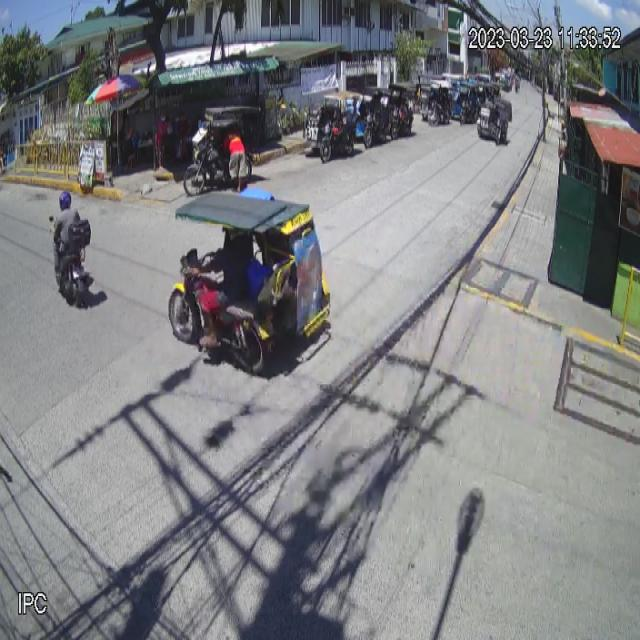Motorcycle: (50, 208, 96, 309)
Tricycle: (168, 190, 332, 380)
